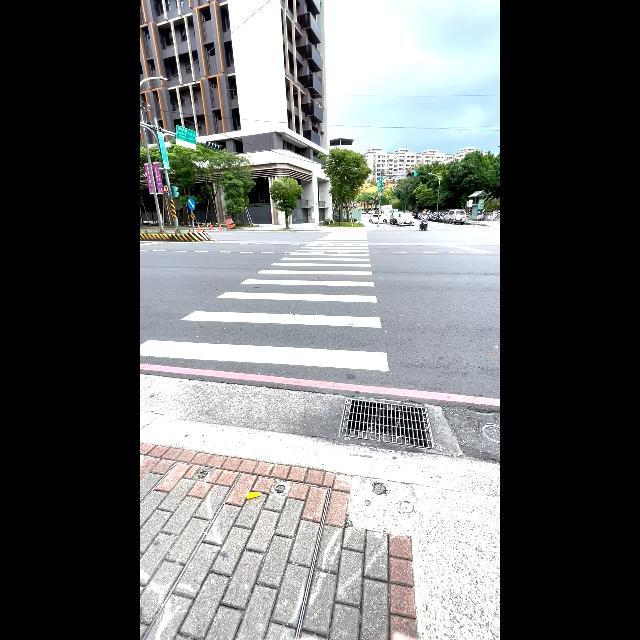sidewalk: (140, 226, 390, 398)
